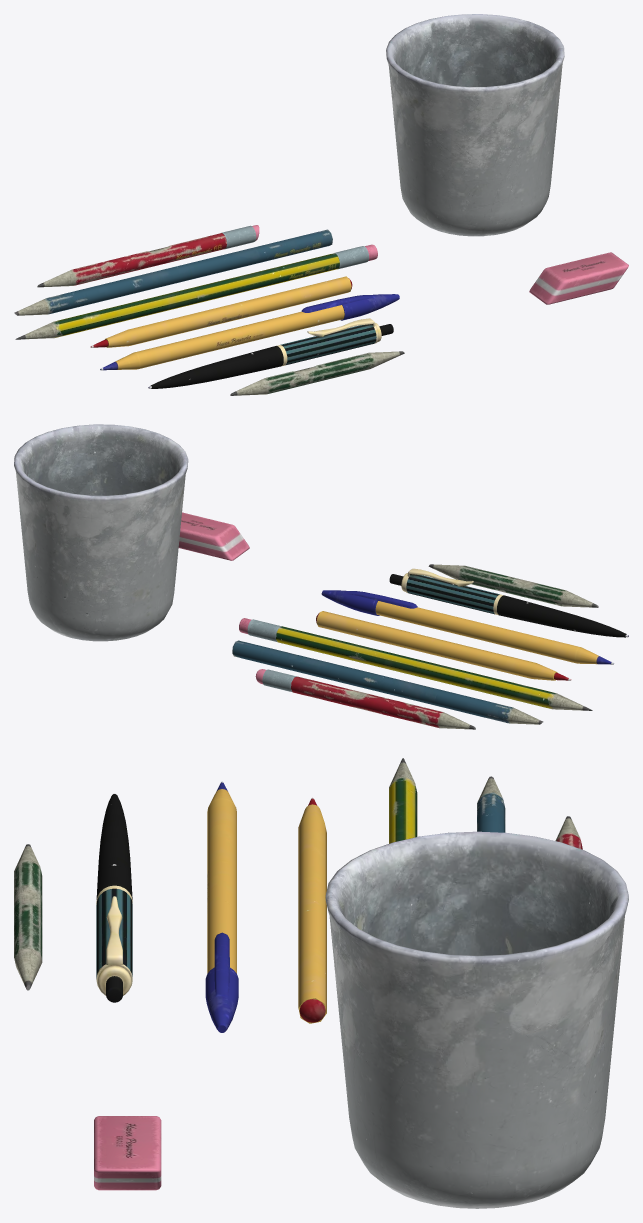
The model's file is stationery-supplies.glb.
The picture shows the model from 3 angles, top to bottom: view 1: azimuth 30°, elevation 25°; view 2: azimuth 150°, elevation 25°; view 3: azimuth 270°, elevation 25°; orthographic projection. The views are drawn at different scales.
Parts seen in each view (by area): view 1: stationery_supplies_pen_red; view 2: stationery_supplies_pen_red; view 3: stationery_supplies_pen_red.
Boxes of the visible parts, bbox=[...] form: stationery_supplies_pen_red: bbox=[14, 14, 628, 395]; stationery_supplies_pen_red: bbox=[14, 424, 628, 729]; stationery_supplies_pen_red: bbox=[14, 758, 628, 1208].
Bounding box in the file's own units: 0.3019 × 0.0839 × 0.1696.
Materials: 1 (1 with a texture image).
